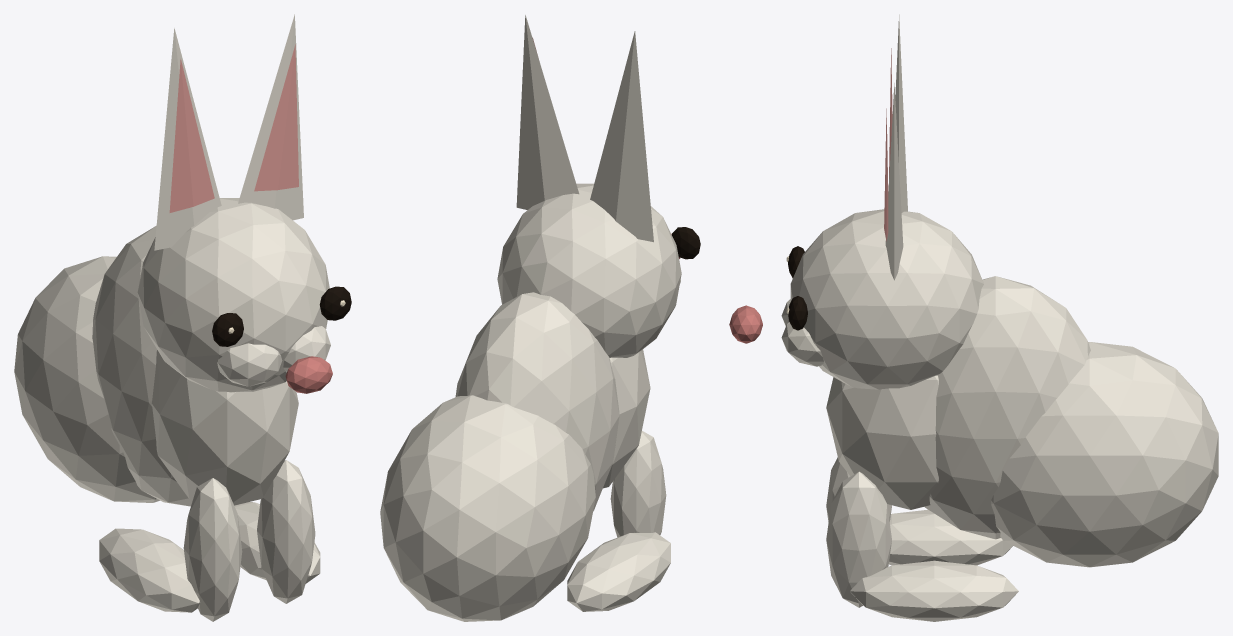
File: low-poly-bunny.glb
The picture shows the model from 3 angles, left to right: view 1: azimuth 30°, elevation 25°; view 2: azimuth 150°, elevation 25°; view 3: azimuth 270°, elevation 25°; orthographic projection. The views are drawn at different scales.
Visible parts, largest first — view 1: bunny-head-mesh, bunny-rump-mesh, bunny-chest-mesh, bunny-body-mesh, bunny-forepaw-left-mesh, bunny-forepaw-right-mesh, bunny-hind-foot-left-mesh, bunny-ear-left-outer-mesh, bunny-ear-right-outer-mesh, bunny-ear-left-inner-mesh, bunny-ear-right-inner-mesh, bunny-cheek-left-mesh (+5 smaller); view 2: bunny-rump-mesh, bunny-head-mesh, bunny-body-mesh, bunny-ear-left-outer-mesh, bunny-ear-right-outer-mesh, bunny-hind-foot-left-mesh, bunny-forepaw-left-mesh, bunny-chest-mesh, bunny-eye-left-mesh; view 3: bunny-rump-mesh, bunny-head-mesh, bunny-body-mesh, bunny-chest-mesh, bunny-hind-foot-right-mesh, bunny-forepaw-right-mesh, bunny-hind-foot-left-mesh, bunny-ear-right-outer-mesh, bunny-ear-left-outer-mesh, bunny-cheek-right-mesh, bunny-nose-mesh.
Boxes of the visible parts, x1,y1,x2,y2 form: bunny-head-mesh: (137, 198, 329, 392); bunny-rump-mesh: (14, 256, 159, 502); bunny-chest-mesh: (151, 350, 298, 505); bunny-body-mesh: (92, 225, 192, 506); bunny-forepaw-left-mesh: (183, 478, 242, 621); bunny-forepaw-right-mesh: (257, 460, 315, 603); bunny-hind-foot-left-mesh: (99, 528, 200, 612); bunny-ear-left-outer-mesh: (154, 28, 221, 250); bunny-ear-right-outer-mesh: (238, 14, 303, 220); bunny-ear-left-inner-mesh: (169, 59, 214, 212); bunny-ear-right-inner-mesh: (254, 44, 298, 191); bunny-cheek-left-mesh: (217, 343, 282, 386); bunny-rump-mesh: (380, 395, 595, 621); bunny-head-mesh: (497, 183, 681, 357); bunny-body-mesh: (455, 292, 619, 511); bunny-ear-left-outer-mesh: (590, 31, 653, 242); bunny-ear-right-outer-mesh: (516, 15, 579, 209); bunny-hind-foot-left-mesh: (567, 532, 670, 611); bunny-forepaw-left-mesh: (610, 431, 666, 537); bunny-chest-mesh: (603, 349, 650, 488); bunny-eye-left-mesh: (672, 227, 700, 259); bunny-rump-mesh: (991, 342, 1218, 567); bunny-head-mesh: (790, 209, 983, 389); bunny-body-mesh: (924, 276, 1090, 539); bunny-chest-mesh: (826, 375, 938, 509); bunny-hind-foot-right-mesh: (850, 560, 1018, 621); bunny-forepaw-right-mesh: (826, 471, 891, 607); bunny-hind-foot-left-mesh: (889, 509, 1012, 565); bunny-ear-right-outer-mesh: (885, 83, 903, 280); bunny-ear-left-outer-mesh: (895, 14, 907, 212); bunny-cheek-right-mesh: (781, 322, 823, 366); bunny-nose-mesh: (729, 305, 762, 343).
Size of the model in its own units: 0.3303 by 0.9948 by 0.7991.
